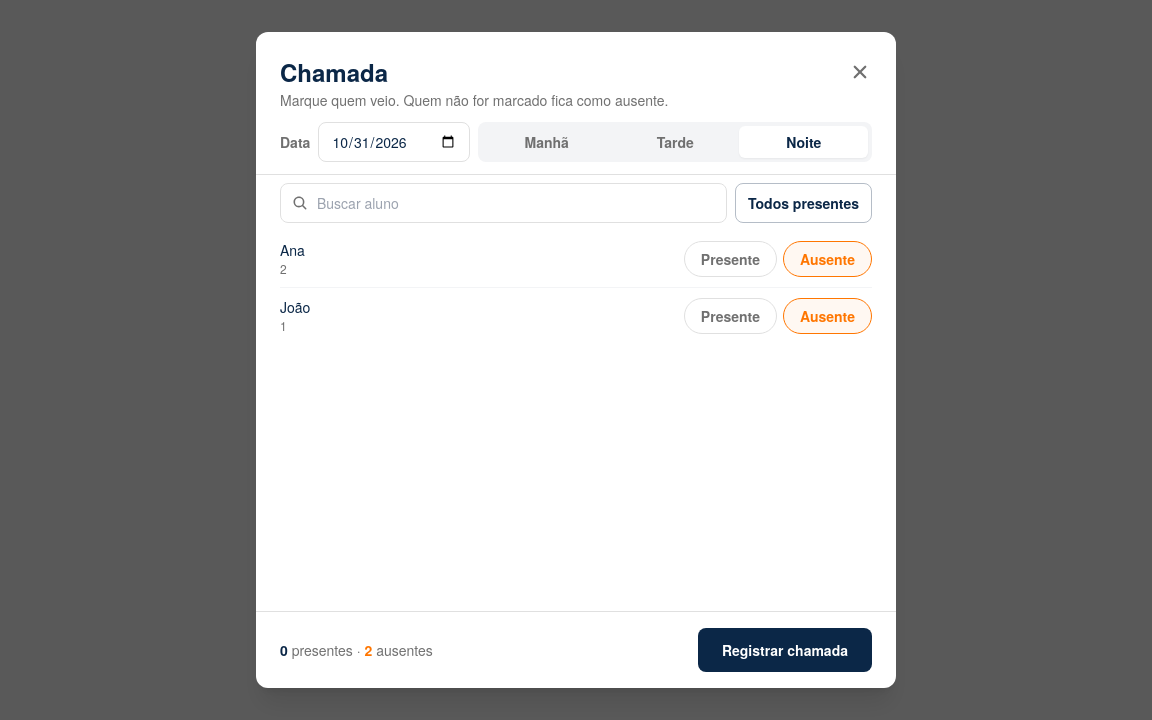
Test case: Novo Registro (tickets-documentacao, 11) › busca sem acento acha o nome com acento
Expected: the element named "Ana" is shown, 684,241 -> 872,277
Type "joao" into the search field labelled "Buscar aluno" at point(504, 203), box 280,183 -> 727,223
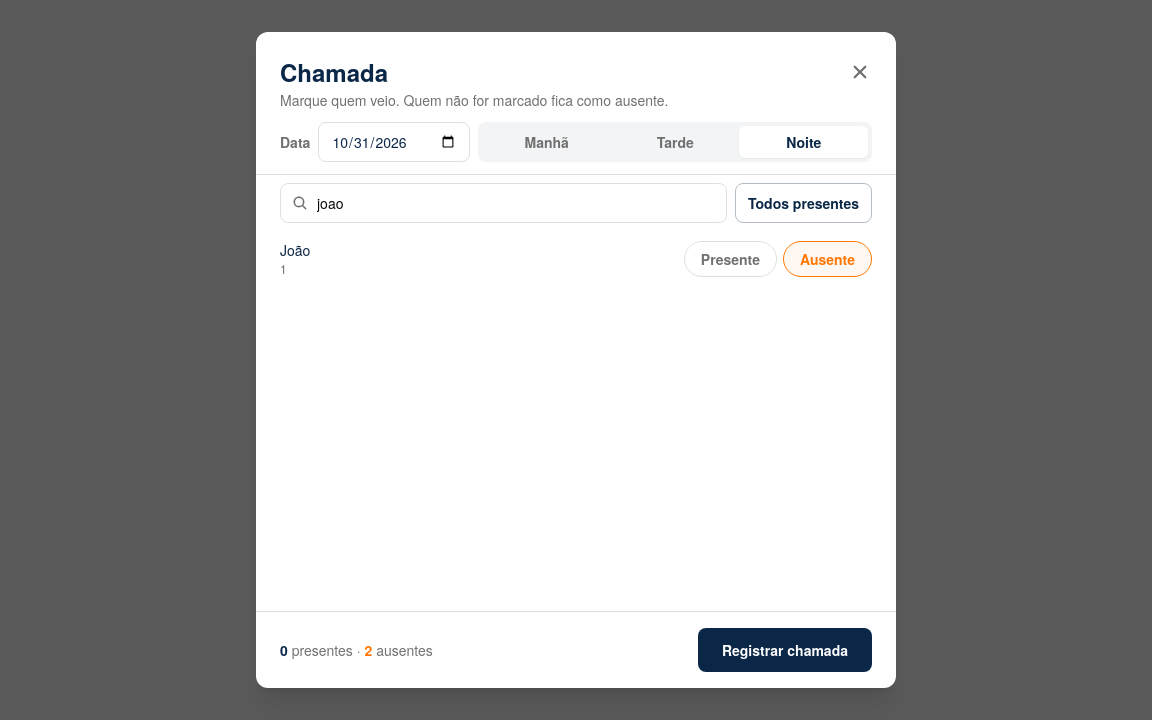
Expected: the element named "João" is shown, 684,241 -> 872,277
Result: the text "Ana" is gone
